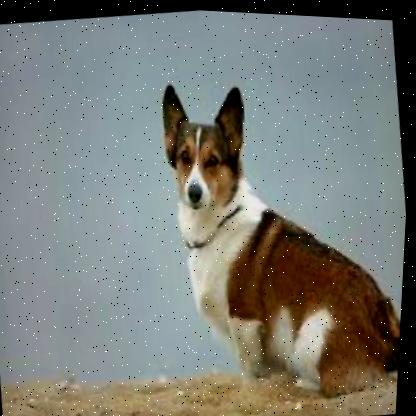dog: (142, 54, 414, 416)
